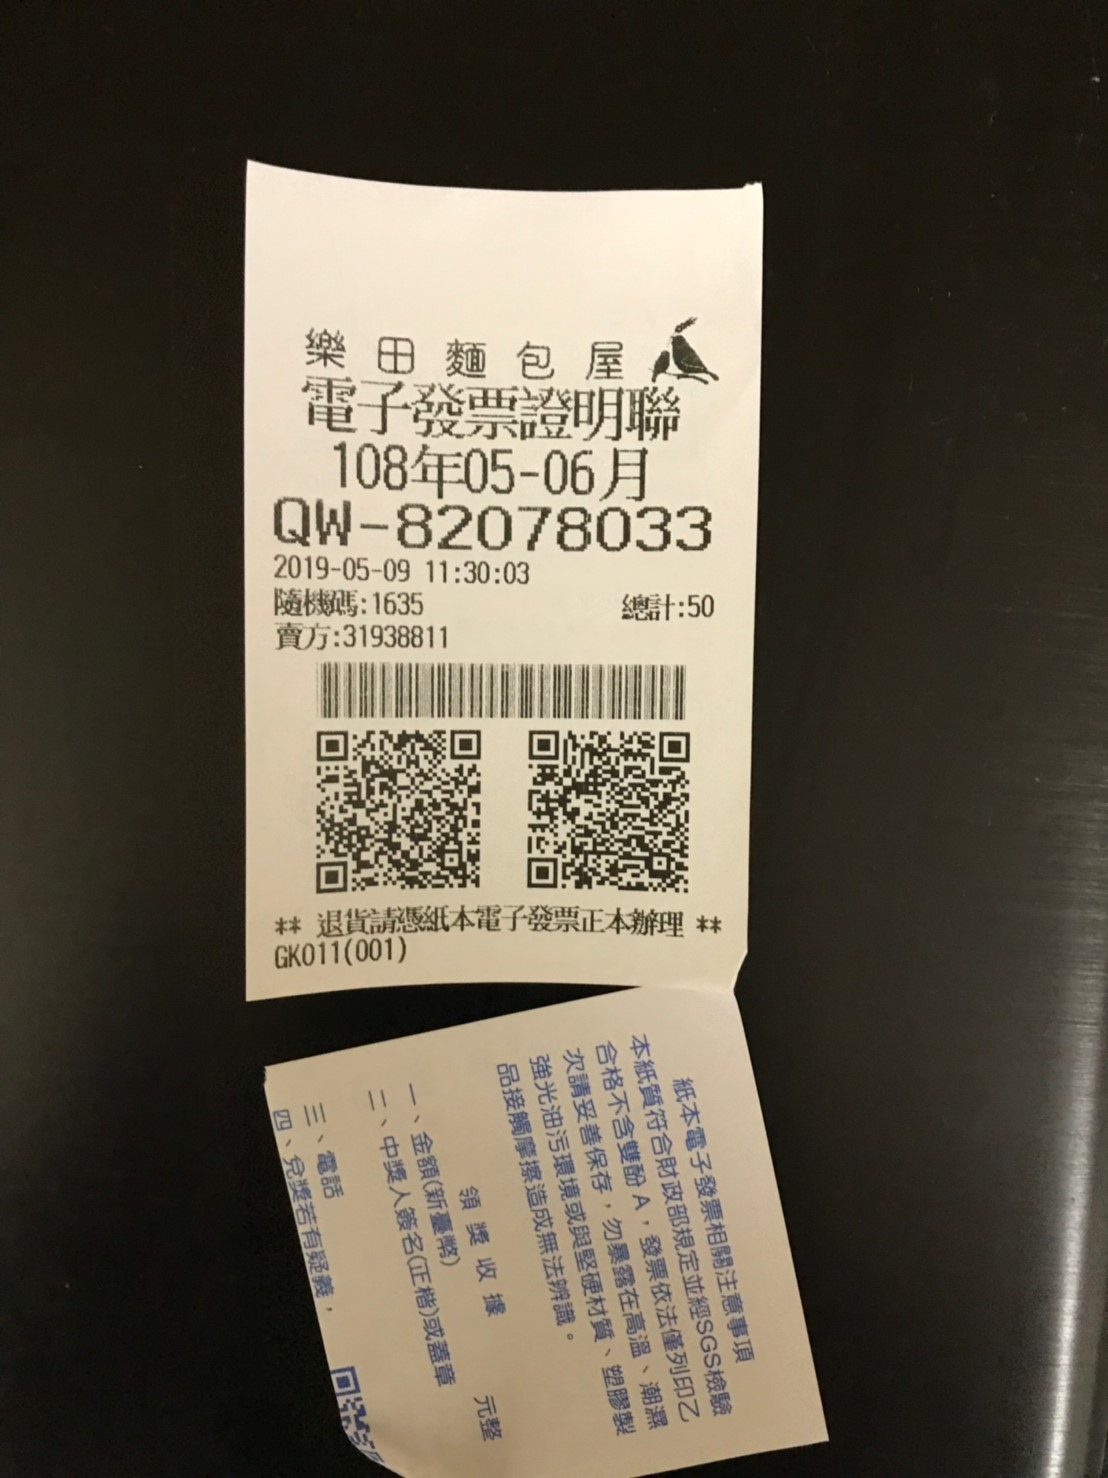Date_New: (329, 439, 649, 504)
Number_New: (393, 498, 719, 556)
